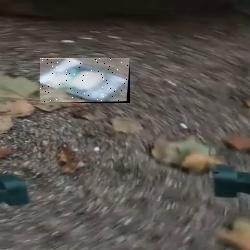restaffald: (40, 58, 130, 103)
